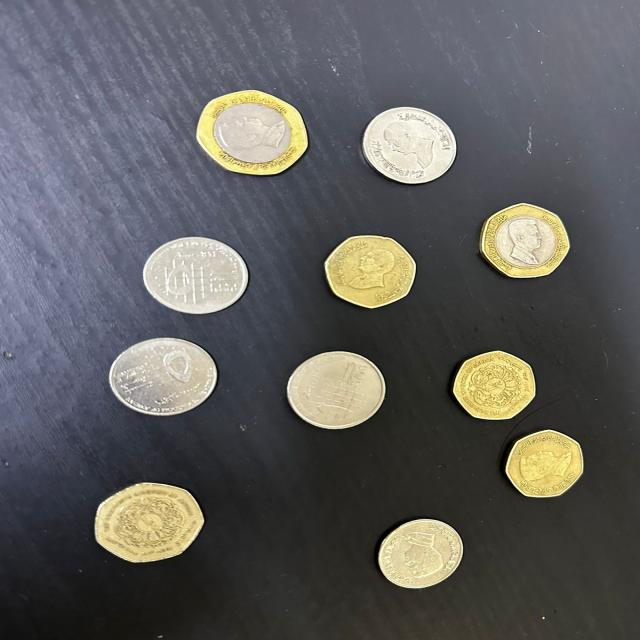10-coins: (281, 348, 390, 428), (362, 104, 464, 185)
25-coins: (90, 480, 206, 564), (324, 234, 419, 308), (449, 349, 542, 418), (505, 430, 589, 500)
5-coins: (135, 235, 251, 317), (109, 335, 220, 418), (379, 518, 468, 588)
50-coins: (191, 88, 313, 179), (473, 197, 573, 279)
